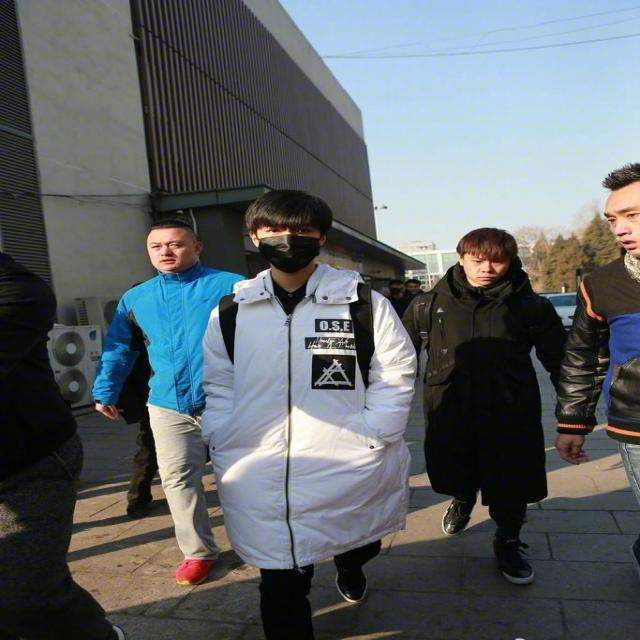mask: (260, 217, 316, 272)
nomask: (604, 183, 639, 259), (147, 226, 192, 274), (464, 247, 505, 288)
